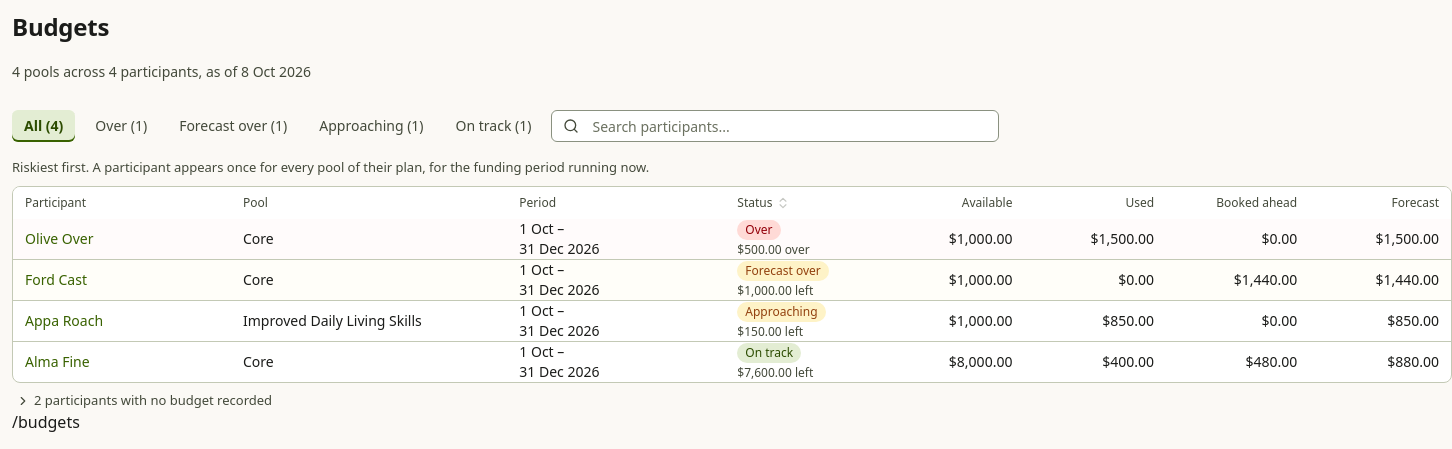
Scenario: BudgetsPage: the participants with no budget in force › is part of All only: a participant with no budget has no status to filter by
What coordinates should you click on to do the following:
click the radio button labelled "Over (1)"
I would click on:
 (121, 126)
Its box is [83,110,159,142].
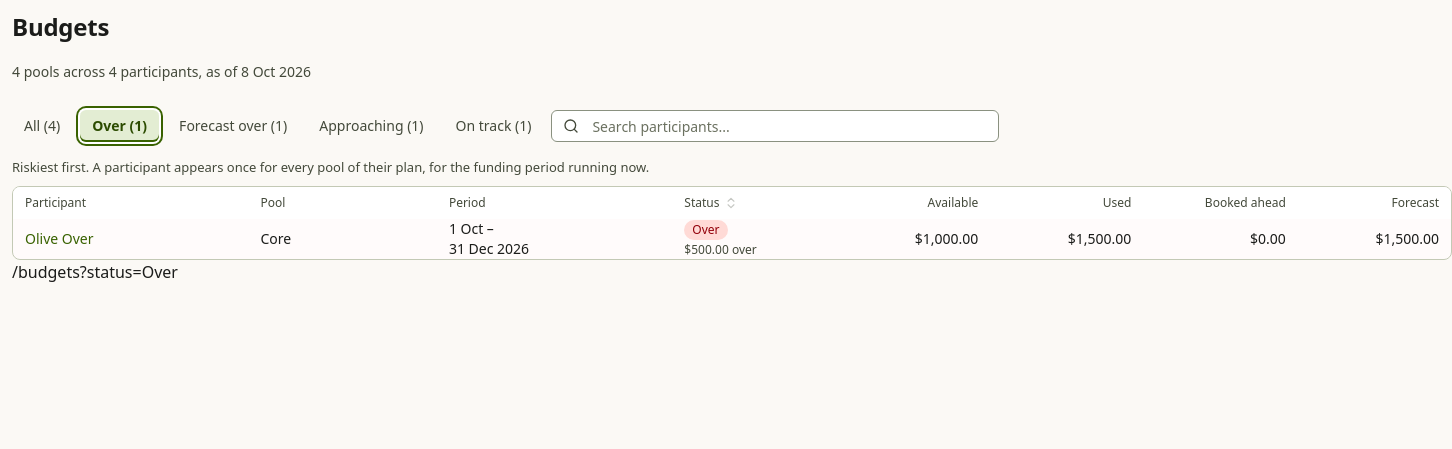
Check: the button "no budget recorded" is gone
